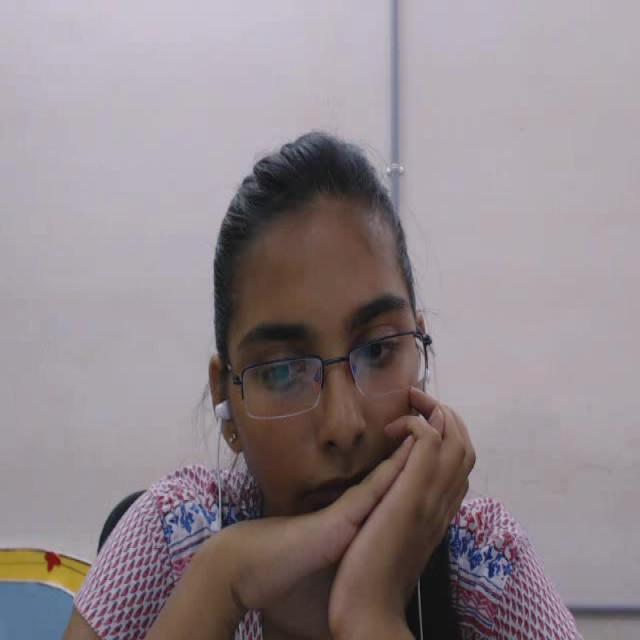Bored: (174, 91, 480, 573)
